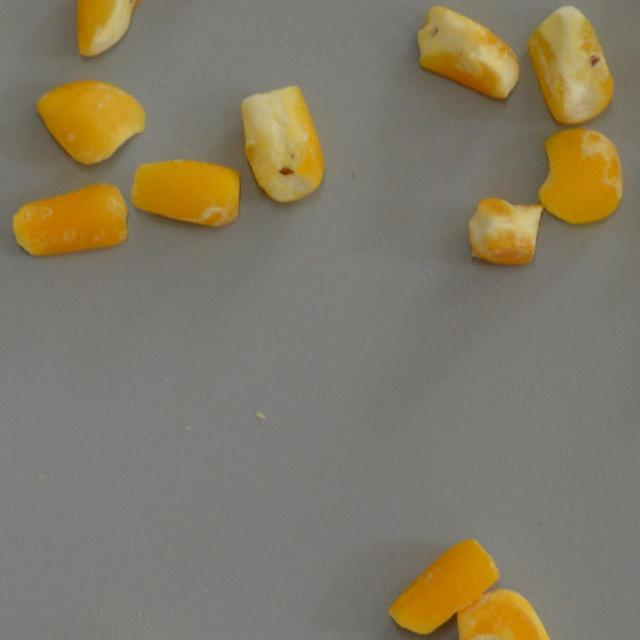estandar: (384, 536, 501, 638), (32, 78, 150, 166)
pelicula: (530, 126, 640, 225), (126, 151, 244, 227), (8, 182, 129, 255), (463, 190, 544, 268)
punto_negro: (524, 0, 617, 128), (412, 0, 522, 108), (235, 81, 326, 206), (452, 588, 556, 640), (72, 0, 160, 60)
